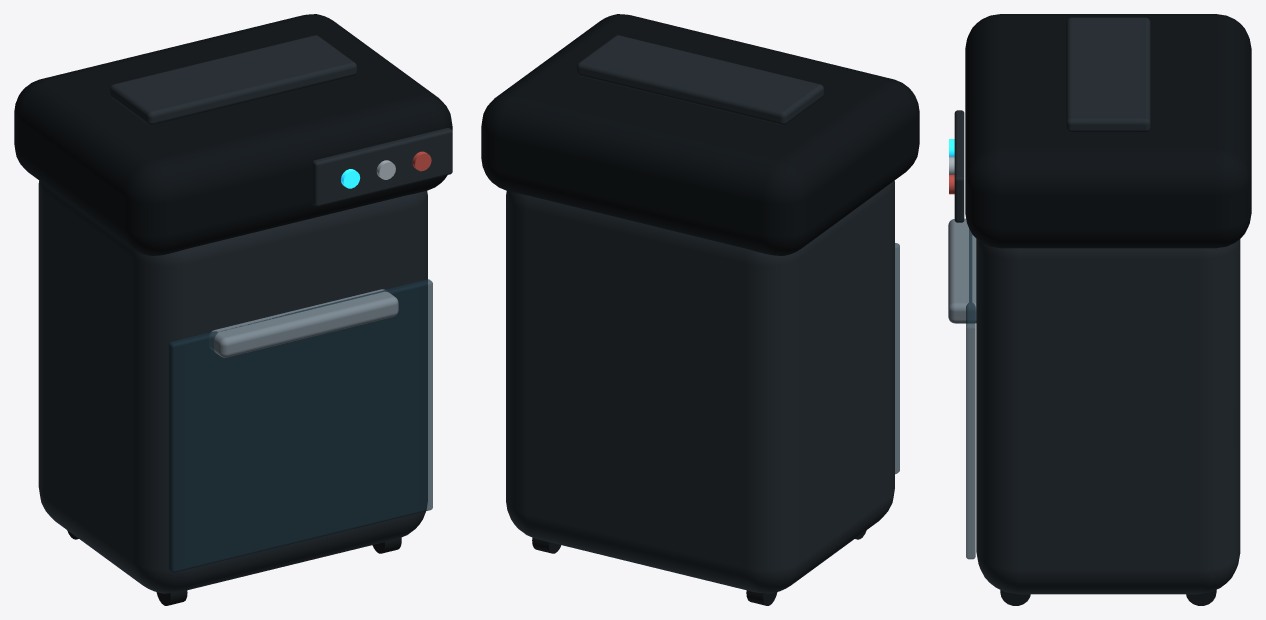
Rendered from paper-shredder.glb.
3 views of the same model, side by side, from view 1: azimuth 30°, elevation 25°; view 2: azimuth 150°, elevation 25°; view 3: azimuth 270°, elevation 25° (orthographic). The views are drawn at different scales.
Visible parts, largest first — view 1: Shredder bin, Bin level window, Shredder head, Paper feed slot, Control panel, Bin handle; view 2: Shredder bin, Shredder head, Paper feed slot, Bin level window; view 3: Shredder bin, Shredder head, Paper feed slot, Bin handle, Bin level window, Control panel.
Part boxes in pixels (left/top/right/bottom): Shredder bin: left=38, top=180, right=427, bottom=593; Bin level window: left=168, top=279, right=432, bottom=572; Shredder head: left=14, top=14, right=452, bottom=256; Paper feed slot: left=110, top=35, right=356, bottom=125; Control panel: left=312, top=128, right=452, bottom=206; Bin handle: left=209, top=289, right=398, bottom=357; Shredder bin: left=506, top=180, right=894, bottom=593; Shredder head: left=481, top=14, right=919, bottom=255; Paper feed slot: left=577, top=35, right=823, bottom=125; Bin level window: left=895, top=243, right=899, bottom=474; Shredder bin: left=976, top=239, right=1240, bottom=594; Shredder head: left=965, top=14, right=1251, bottom=248; Paper feed slot: left=1066, top=17, right=1150, bottom=132; Bin handle: left=948, top=218, right=976, bottom=323; Bin level window: left=966, top=228, right=975, bottom=559; Control panel: left=954, top=110, right=964, bottom=222.
Bounding box in the file's own units: 1.36 × 1.89 × 1.08.
